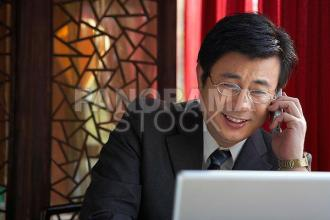phone: (270, 88, 292, 134)
talk: (201, 69, 312, 155)
